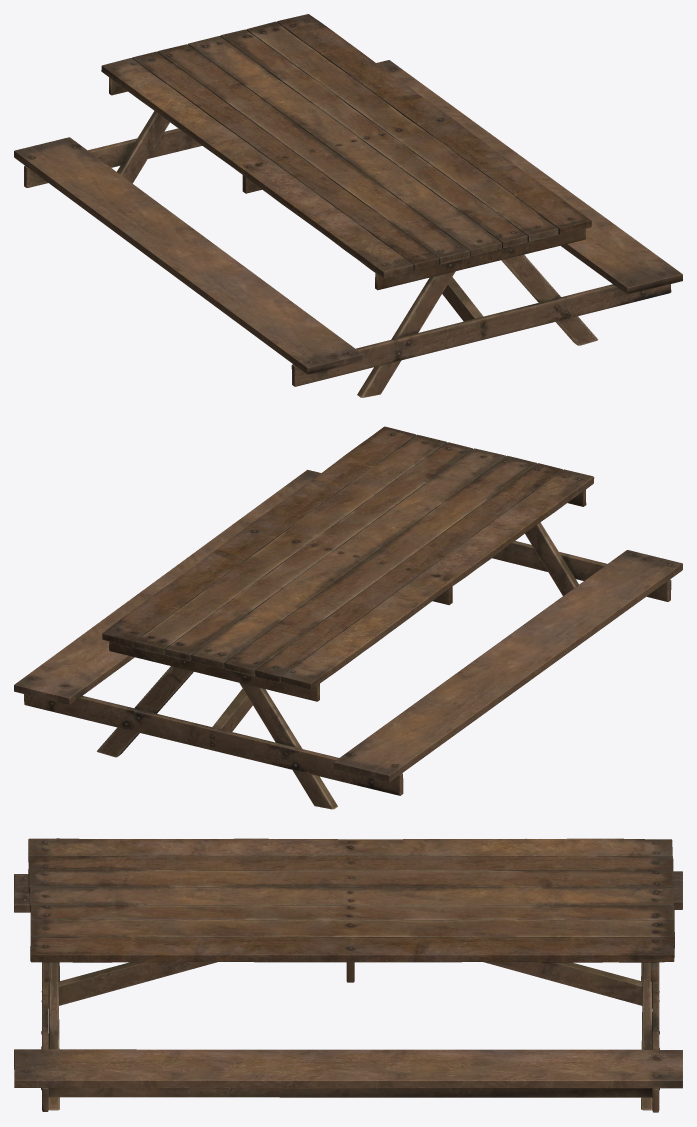
Rendered from 1890dedc-c249-40b7-947a-296ee154df2b.glb.
3 views of the same model, one above another, from view 1: azimuth 30°, elevation 25°; view 2: azimuth 150°, elevation 25°; view 3: azimuth 270°, elevation 25° (orthographic). The views are drawn at different scales.
Parts seen in each view (by area): view 1: wooden_picnic_table; view 2: wooden_picnic_table; view 3: wooden_picnic_table.
Boxes of the visible parts, x1,y1,x2,y2 form: wooden_picnic_table: (14, 14, 682, 397); wooden_picnic_table: (14, 426, 682, 809); wooden_picnic_table: (14, 838, 682, 1112).
Bounding box in the file's own units: 2.24 × 0.7459 × 3.02.
2 materials, 2 textured.
